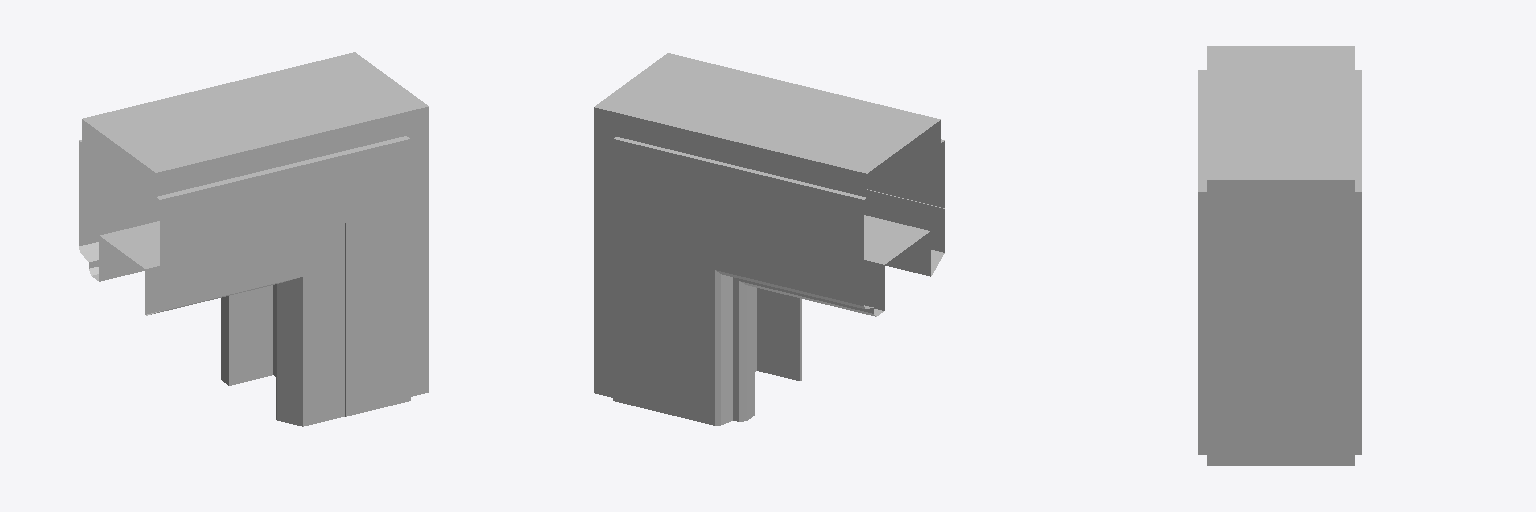
Rendered from original-21.obj.
The picture shows the model from 3 angles: view 1: azimuth 30°, elevation 25°; view 2: azimuth 150°, elevation 25°; view 3: azimuth 270°, elevation 25°; orthographic projection.
Visible parts, largest first — view 1: TF_TR1/TF_TR/mesh174/mesh174-geometry#mesh174-geometry; view 2: TF_TR1/TF_TR/mesh174/mesh174-geometry#mesh174-geometry; view 3: TF_TR1/TF_TR/mesh174/mesh174-geometry#mesh174-geometry.
Boxes of the visible parts, <box> form: TF_TR1/TF_TR/mesh174/mesh174-geometry#mesh174-geometry: <box>79,52,428,426</box>; TF_TR1/TF_TR/mesh174/mesh174-geometry#mesh174-geometry: <box>594,53,944,425</box>; TF_TR1/TF_TR/mesh174/mesh174-geometry#mesh174-geometry: <box>1198,46,1361,465</box>.
Size of the model in its own units: 0.0978 by 0.0978 by 0.0505.